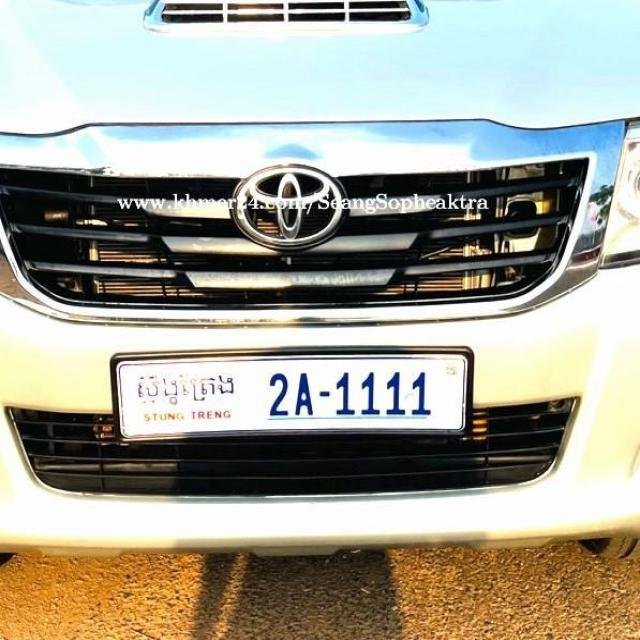Stung_Treng: (134, 370, 243, 408)
